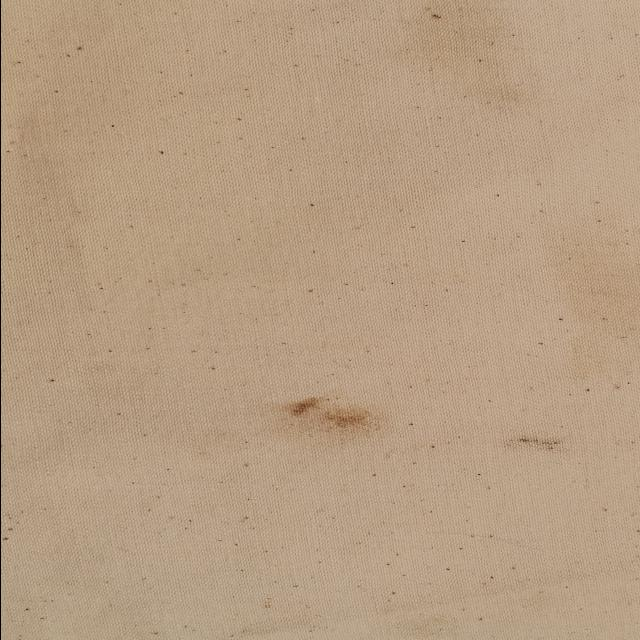taaaches: (269, 392, 396, 444), (502, 431, 572, 456)
